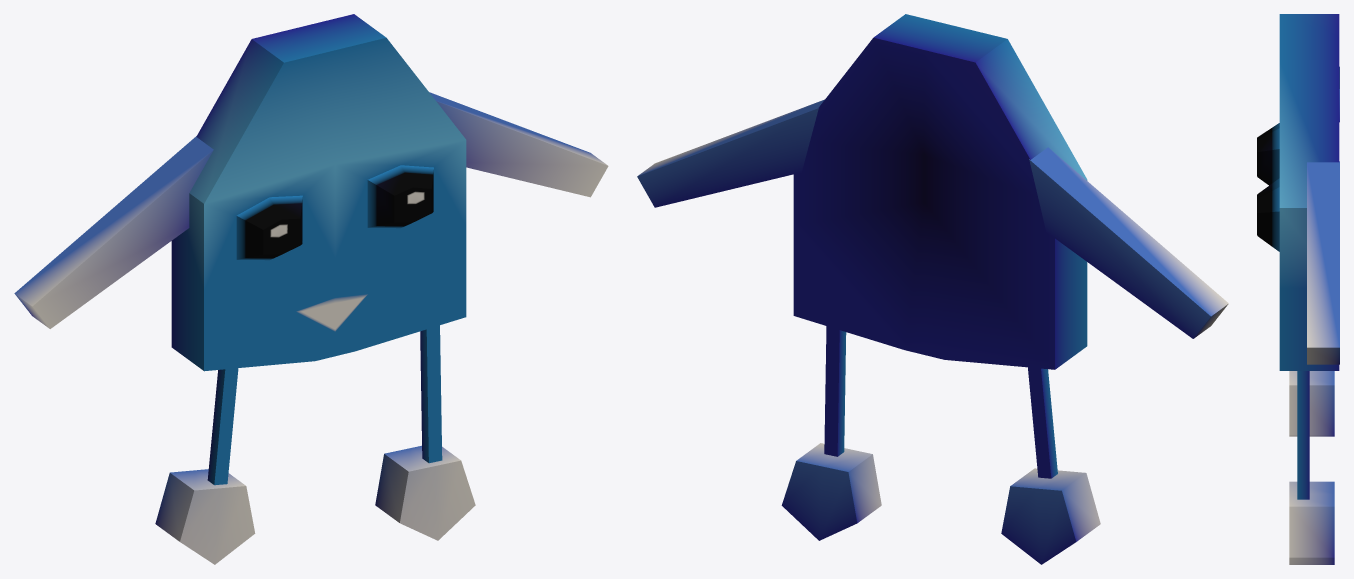
Rendered from mask.obj.
3 views of the same model, side by side, from view 1: azimuth 30°, elevation 25°; view 2: azimuth 150°, elevation 25°; view 3: azimuth 270°, elevation 25° (orthographic). The views are drawn at different scales.
Visible parts, largest first — view 1: mask.001; view 2: mask.001; view 3: mask.001.
Part boxes in pixels (x1=…): mask.001: x1=14, y1=14, x2=608, y2=564; mask.001: x1=637, y1=14, x2=1228, y2=564; mask.001: x1=1257, y1=14, x2=1339, y2=564.
Bounding box in the file's own units: 3.66 × 3.16 × 0.4956.
